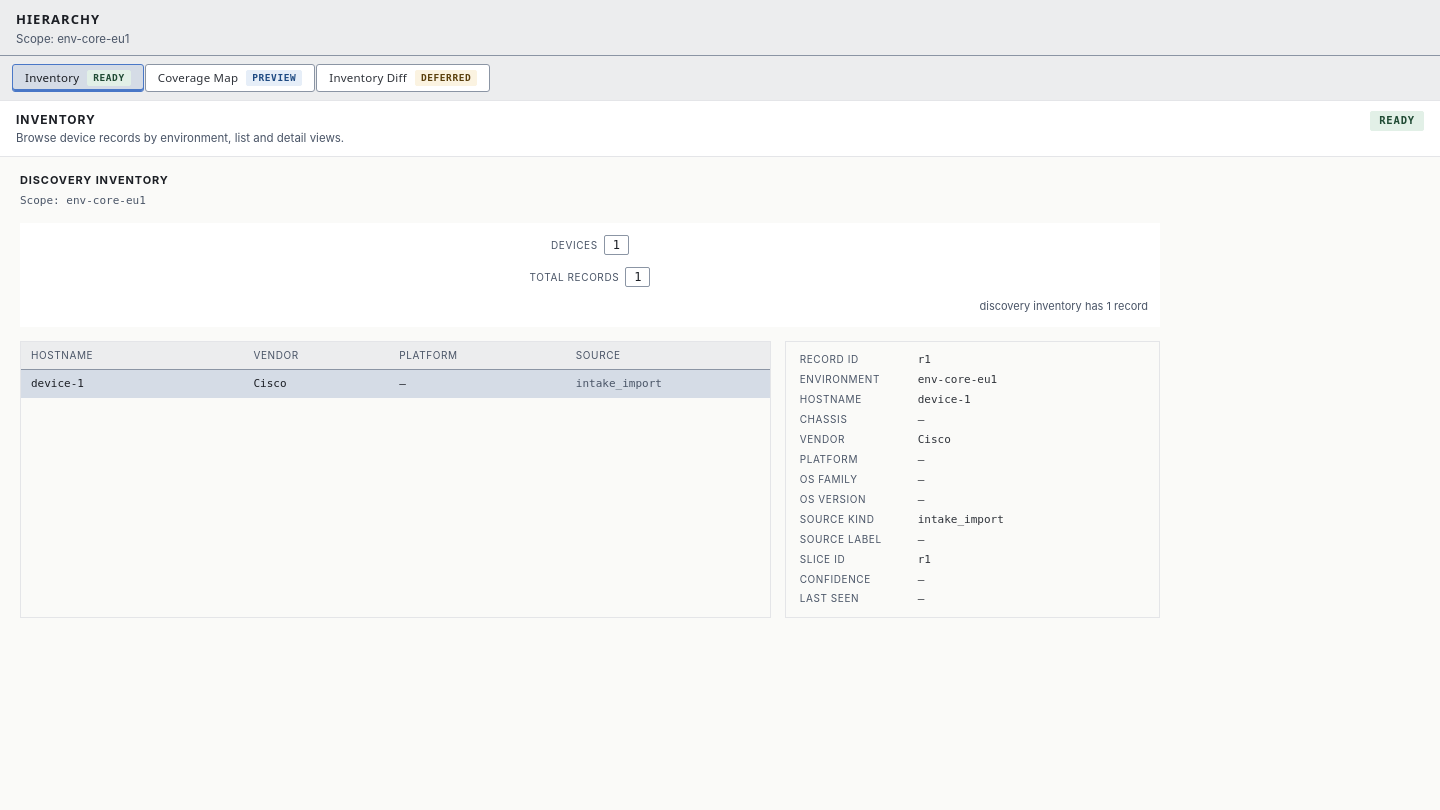
Scenario: HierarchyMode — workbench (V1BM) › Coverage Map renders with intakeSummary when provided and switching to coverage_map shows Intake Source with records
Note: Switch to Coverage Map
Click the tab with test id "mwb-tool-coverage_map" at (230, 78), box [145,64,315,92]
(page scrolled)
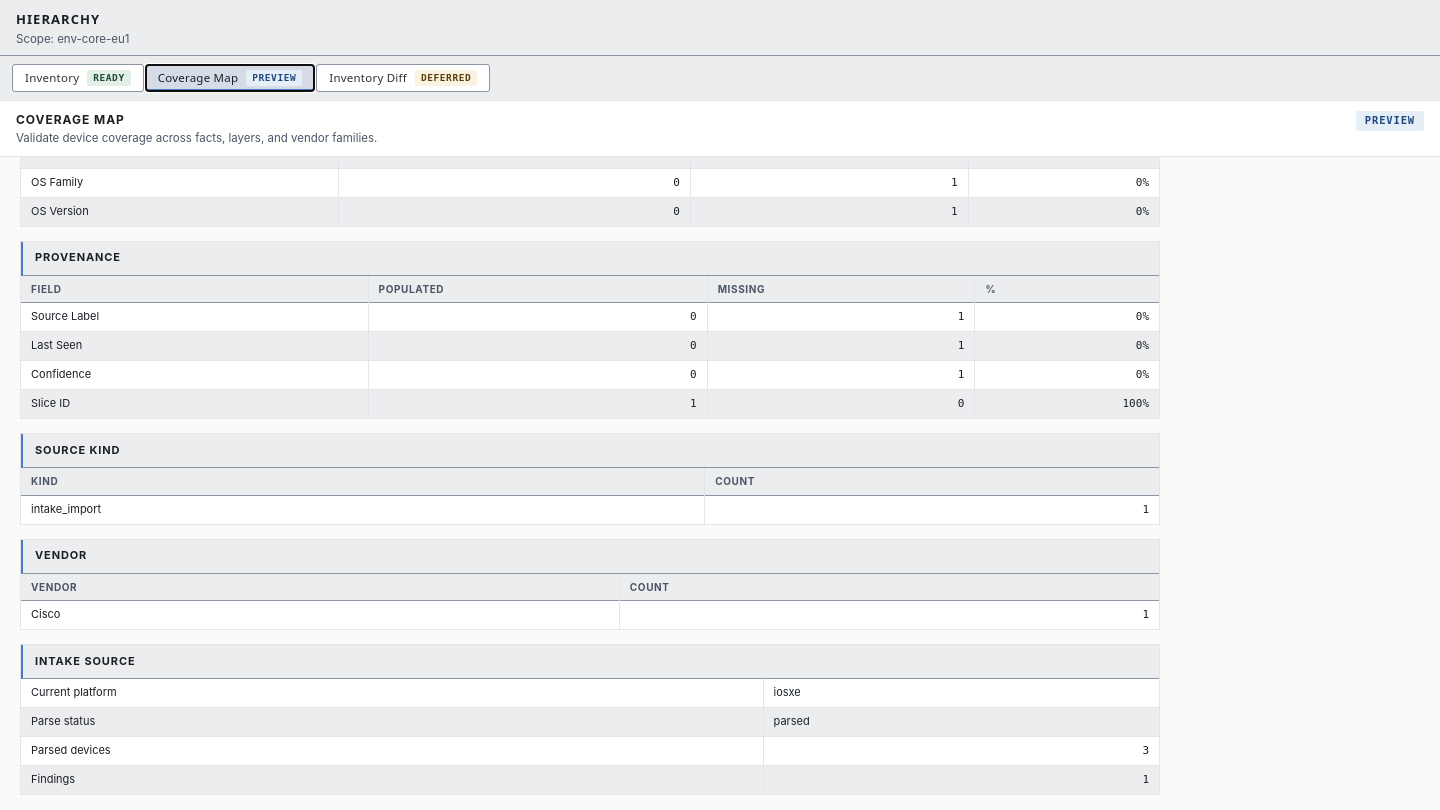
Check: the element with test id "coverage-intake-source" is shown, box [20,644,1160,795]
Check: the cell with test id "coverage-intake-platform" reads "iosxe", box [774,685,801,699]
Check: the cell with test id "coverage-intake-status" reads "parsed", box [774,714,810,728]
